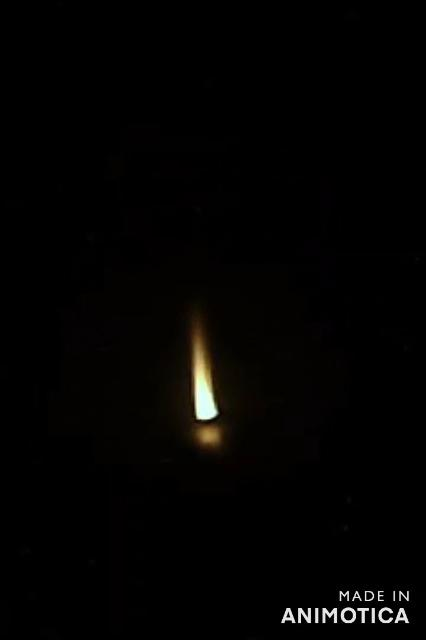burner flame: (188, 318, 220, 422)
